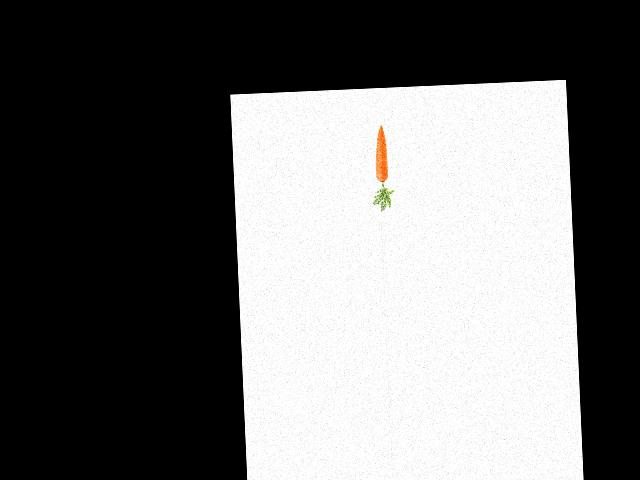carrot: (372, 122, 390, 183)
